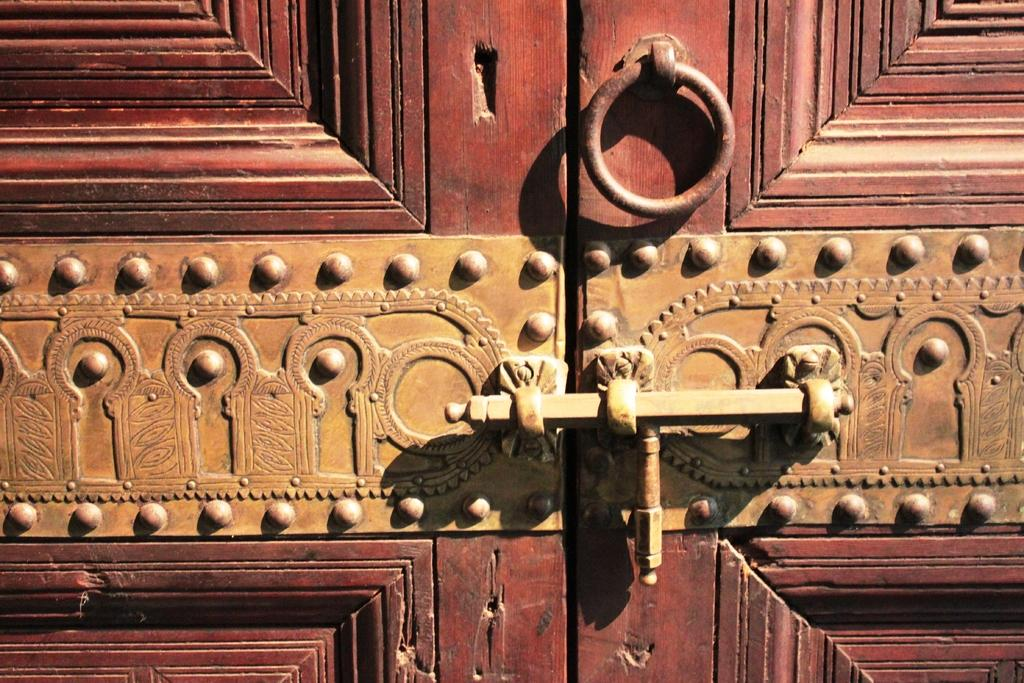handle: (562, 51, 744, 236)
